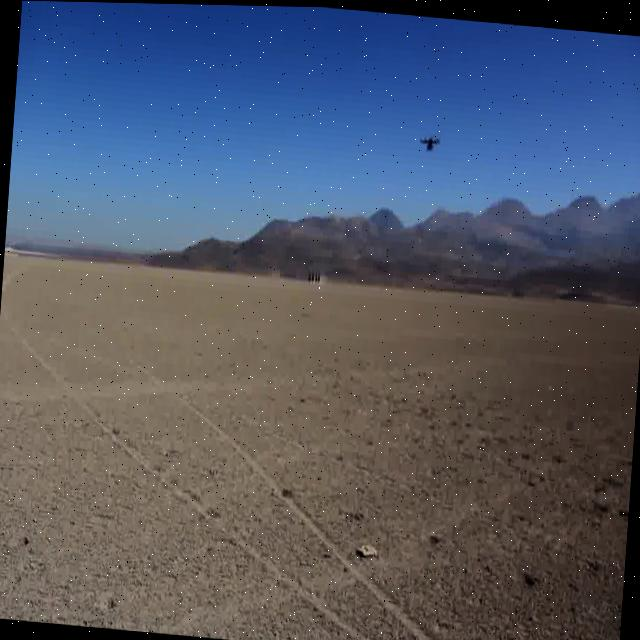drone: (417, 124, 442, 151)
